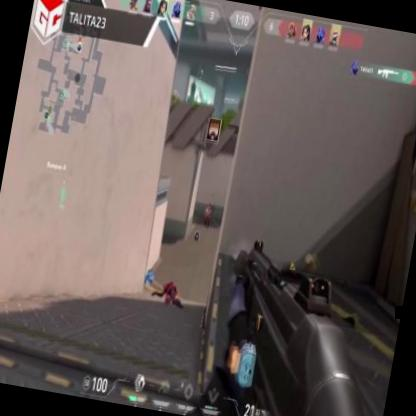enemy: (202, 202, 212, 227)
enemy_head: (207, 206, 210, 210)
